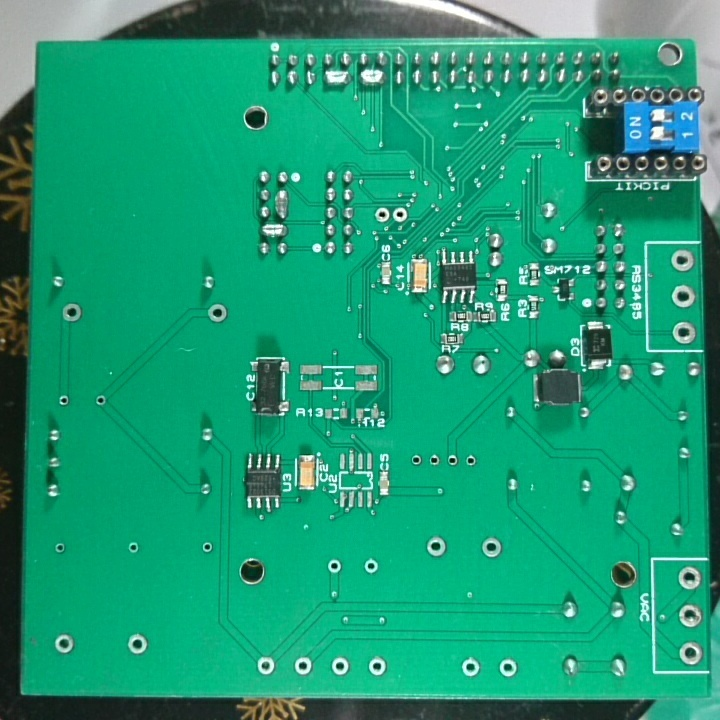F: (674, 565, 704, 594), (676, 639, 707, 667), (422, 532, 450, 561), (670, 317, 697, 346), (674, 602, 703, 629), (670, 283, 697, 311), (123, 631, 150, 658), (669, 248, 695, 275), (204, 300, 232, 325), (479, 533, 503, 561), (51, 632, 77, 657), (459, 656, 483, 682), (59, 302, 85, 325), (254, 654, 278, 678), (497, 657, 520, 681), (365, 654, 388, 678), (328, 655, 351, 678), (292, 655, 314, 678), (324, 556, 346, 578), (390, 203, 411, 226), (360, 554, 380, 578), (371, 204, 391, 226), (407, 450, 426, 471), (443, 451, 461, 472), (462, 452, 480, 472), (51, 538, 68, 558), (426, 450, 442, 470), (92, 392, 109, 409), (199, 538, 215, 556), (125, 538, 141, 555), (55, 392, 72, 408)
P: (319, 66, 352, 89), (357, 66, 387, 88), (272, 187, 291, 221), (257, 221, 289, 239)
